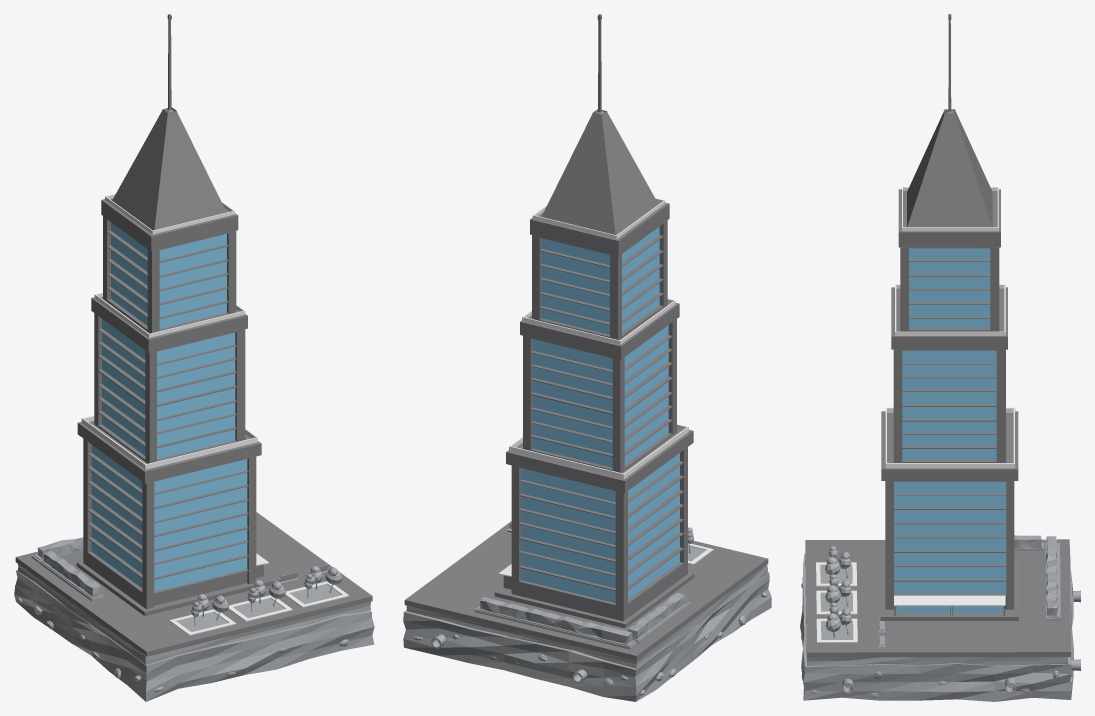
Rendered from Cartoon_Low_Poly_Skyscraper_City_Building.glb.
3 renders of one model, left to right at view 1: azimuth 30°, elevation 25°; view 2: azimuth 150°, elevation 25°; view 3: azimuth 270°, elevation 25°, orthographic. The views are drawn at different scales.
Visible parts, largest first — view 1: Skyscraper_6_1_Building_Violet.1_1, Skyscraper_6_1_Windows_1, Cube_1_3_Ground_0, Asphalt_Building_Violet.1_0, Cube_3_3_Ground_0, Plane_2_Grass_0, Border_7_White_0, bardur_5_Grass_0, bardur_3_Grass_0, bardur_4_Grass_0, Plane_4_Grass_0; view 2: Skyscraper_6_1_Building_Violet.1_1, Skyscraper_6_1_Windows_1, Cube_1_3_Ground_0, Asphalt_Building_Violet.1_0, Cube_3_3_Ground_0, Plane_4_Grass_0, Plane_2_Grass_0, bardur_2_White_1_0, Border_8_White_0; view 3: Skyscraper_6_1_Building_Violet.1_1, Skyscraper_6_1_Windows_1, Asphalt_Building_Violet.1_0, Cube_1_3_Ground_0, Cube_3_3_Ground_0, Enter_part_1_White_0, Plane_4_Grass_0, Border_5_White_0, Border_10_White_0, Border_White_0, bardur_5_Grass_0.
Part boxes in pixels (x1,y1,x2,y2): Skyscraper_6_1_Building_Violet.1_1: [76, 14, 272, 615]; Skyscraper_6_1_Windows_1: [91, 222, 247, 591]; Cube_1_3_Ground_0: [14, 570, 374, 701]; Asphalt_Building_Violet.1_0: [15, 512, 372, 656]; Cube_3_3_Ground_0: [17, 564, 370, 664]; Plane_2_Grass_0: [43, 551, 100, 596]; Border_7_White_0: [145, 437, 257, 469]; bardur_5_Grass_0: [290, 584, 341, 604]; bardur_3_Grass_0: [177, 612, 228, 631]; bardur_4_Grass_0: [233, 598, 284, 618]; Plane_4_Grass_0: [37, 537, 83, 558]; Skyscraper_6_1_Building_Violet.1_1: [494, 14, 694, 628]; Skyscraper_6_1_Windows_1: [521, 226, 679, 602]; Cube_1_3_Ground_0: [403, 572, 771, 701]; Asphalt_Building_Violet.1_0: [404, 521, 768, 660]; Cube_3_3_Ground_0: [406, 565, 767, 668]; Plane_4_Grass_0: [480, 597, 632, 644]; Plane_2_Grass_0: [628, 592, 686, 639]; bardur_2_White_1_0: [474, 606, 637, 649]; Border_8_White_0: [510, 446, 622, 478]; Skyscraper_6_1_Building_Violet.1_1: [880, 14, 1018, 620]; Skyscraper_6_1_Windows_1: [894, 248, 1006, 612]; Asphalt_Building_Violet.1_0: [805, 539, 1070, 657]; Cube_1_3_Ground_0: [800, 553, 1073, 701]; Cube_3_3_Ground_0: [807, 657, 1067, 665]; Enter_part_1_White_0: [894, 595, 1005, 606]; Plane_4_Grass_0: [1046, 536, 1058, 616]; Border_5_White_0: [886, 463, 1015, 468]; Border_10_White_0: [895, 331, 1005, 335]; Border_White_0: [902, 227, 998, 231]; bardur_5_Grass_0: [821, 621, 853, 639].
Bounding box in the file's own units: 726 × 1754 × 717.
